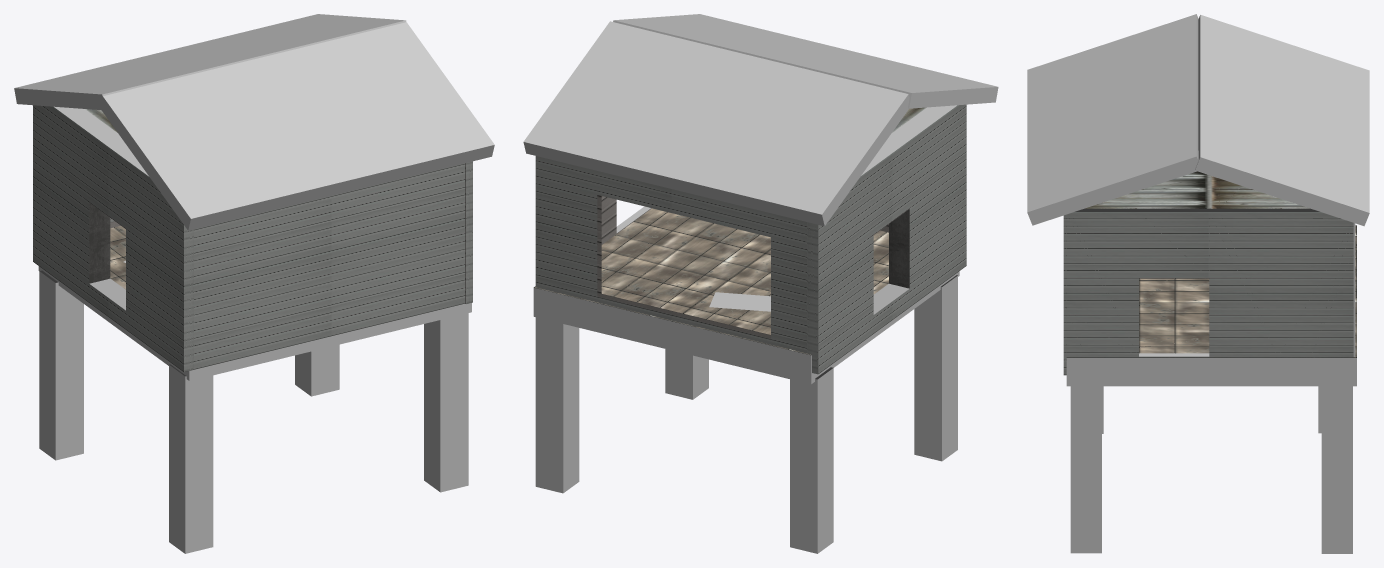
The model's file is Hut3.fbx.
3 views of the same model, side by side, from view 1: azimuth 30°, elevation 25°; view 2: azimuth 150°, elevation 25°; view 3: azimuth 270°, elevation 25° (orthographic). The views are drawn at different scales.
Parts seen in each view (by area): view 1: Roof_30, wall23, wall21, Roof_31, Leg22, Leg21, Leg23, floor6, door9, Leg24, wall22; view 2: Roof_31, floor6, wall21, wall24, Roof_30, Leg21, Leg24, Leg22, door9, Leg23, wall22; view 3: wall22, Roof_31, Roof_30, floor6, Leg24, Leg23, roof6.
Boxes of the visible parts, left/top/right/bottom form: Roof_30: left=100, top=22, right=494, bottom=230; wall23: left=194, top=163, right=465, bottom=369; wall21: left=33, top=105, right=193, bottom=371; Roof_31: left=14, top=14, right=406, bottom=110; Leg22: left=169, top=364, right=213, bottom=553; Leg21: left=39, top=270, right=83, bottom=460; Leg23: left=424, top=313, right=468, bottom=492; floor6: left=38, top=226, right=471, bottom=380; door9: left=89, top=202, right=125, bottom=310; Leg24: left=295, top=344, right=339, bottom=396; wall22: left=465, top=161, right=472, bottom=303; Roof_31: left=523, top=21, right=909, bottom=226; floor6: left=533, top=208, right=959, bottom=384; wall21: left=807, top=104, right=966, bottom=374; wall24: left=536, top=156, right=807, bottom=353; Roof_30: left=613, top=14, right=998, bottom=108; Leg21: left=790, top=367, right=833, bottom=553; Leg24: left=535, top=317, right=579, bottom=493; Leg22: left=914, top=275, right=957, bottom=461; door9: left=873, top=209, right=909, bottom=314; Leg23: left=665, top=349, right=708, bottom=399; wall22: left=535, top=156, right=651, bottom=286; wall22: left=1063, top=208, right=1353, bottom=375; Roof_31: left=1195, top=14, right=1369, bottom=226; Roof_30: left=1027, top=14, right=1198, bottom=225; floor6: left=1066, top=225, right=1356, bottom=386; Leg24: left=1321, top=383, right=1352, bottom=553; Leg23: left=1070, top=386, right=1101, bottom=553; roof6: left=1085, top=171, right=1309, bottom=208.
Bounding box in the file's own units: 2160 × 2185 × 2804.
